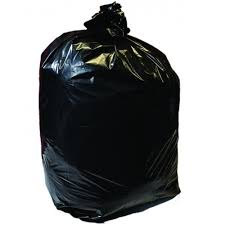Trash: (28, 2, 197, 224)
